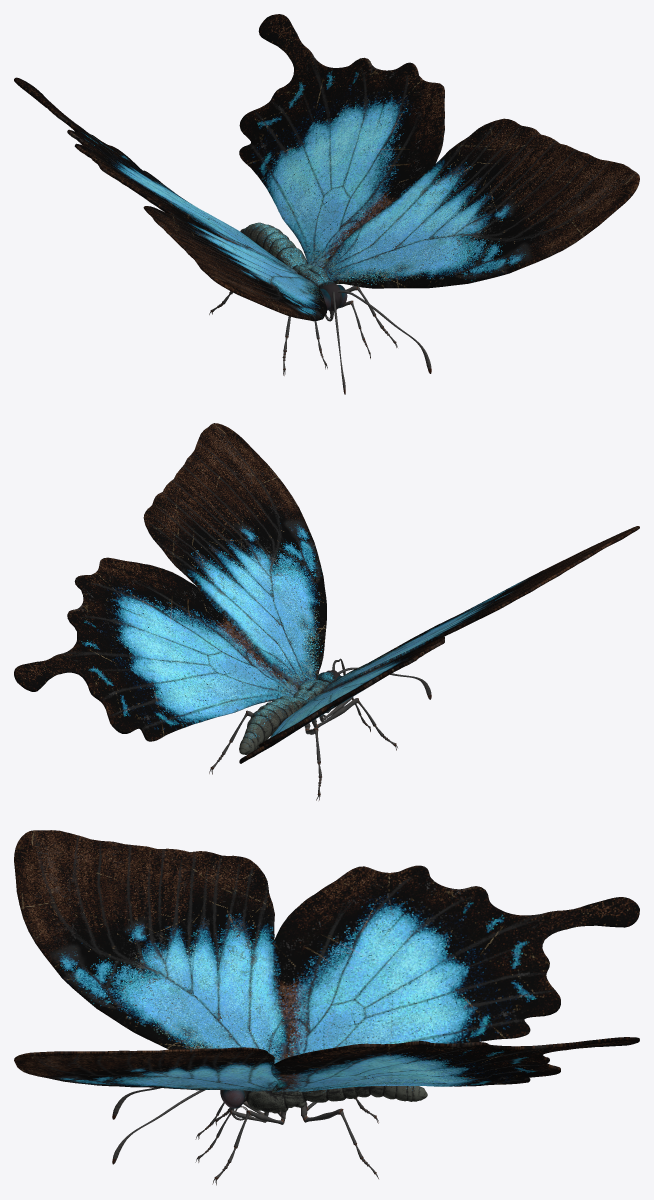
The model's file is fly.glb.
The picture shows the model from 3 angles, top to bottom: view 1: azimuth 30°, elevation 25°; view 2: azimuth 150°, elevation 25°; view 3: azimuth 270°, elevation 25°; orthographic projection. The views are drawn at different scales.
Visible parts, largest first — view 1: node_id30; view 2: node_id30; view 3: node_id30.
Boxes of the visible parts, <box> form: node_id30: <box>14,14,639,394</box>; node_id30: <box>14,423,639,800</box>; node_id30: <box>14,830,639,1185</box>.
Bounding box in the file's own units: 1.6 × 0.7169 × 1.89.
1 material, 1 textured.
